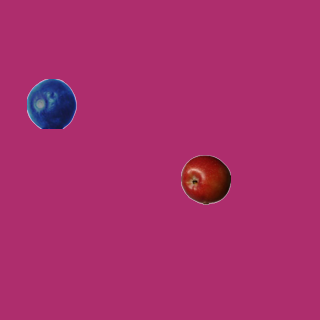Apple Braeburn: (180, 154, 230, 204)
Huckleberry: (26, 78, 76, 128)
